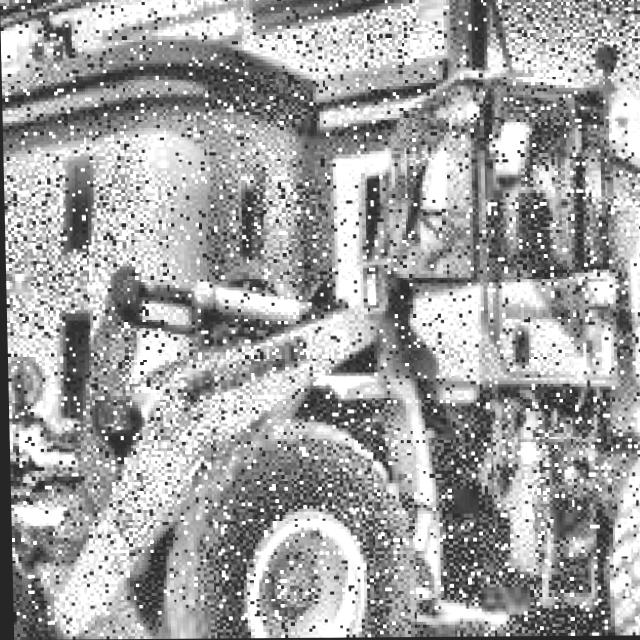buldozerpayloadergrader: (0, 5, 640, 640)
